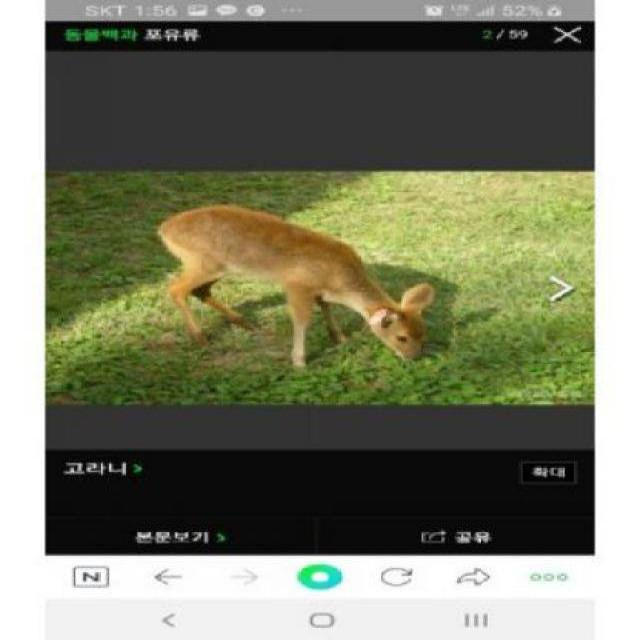deer: (161, 201, 441, 378)
